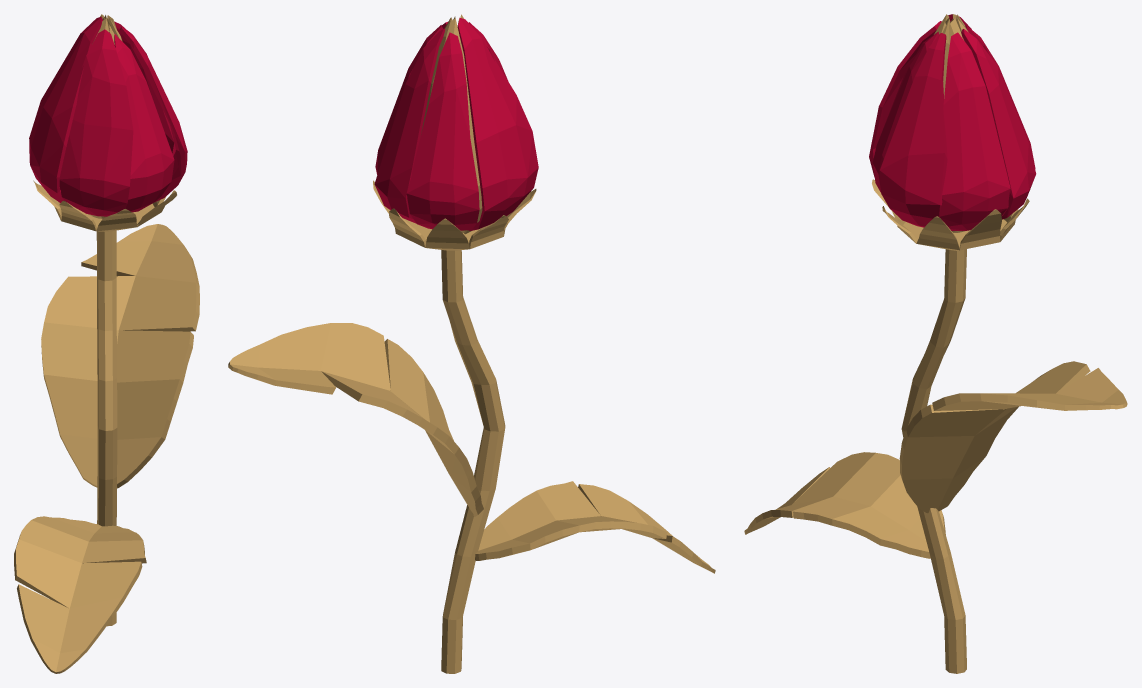
The model's file is Flower_8.fbx.
The picture shows the model from 3 angles, left to right: view 1: azimuth 30°, elevation 25°; view 2: azimuth 150°, elevation 25°; view 3: azimuth 270°, elevation 25°; orthographic projection. The views are drawn at different scales.
Visible parts, largest first — view 1: Flower_8; view 2: Flower_8; view 3: Flower_8.
Part boxes in pixels (x1,y1,x2,y2): Flower_8: (14,14,199,673); Flower_8: (228,14,715,673); Flower_8: (744,14,1127,673).
Bounding box in the file's own units: 43.96 × 88.86 × 47.28.
